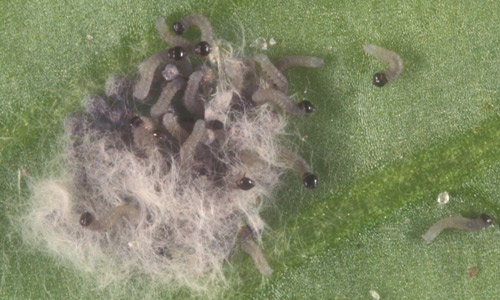Armyworm: (422, 194, 496, 257), (256, 139, 328, 199), (351, 37, 406, 95), (133, 51, 188, 106), (265, 51, 330, 89), (140, 14, 196, 56)
